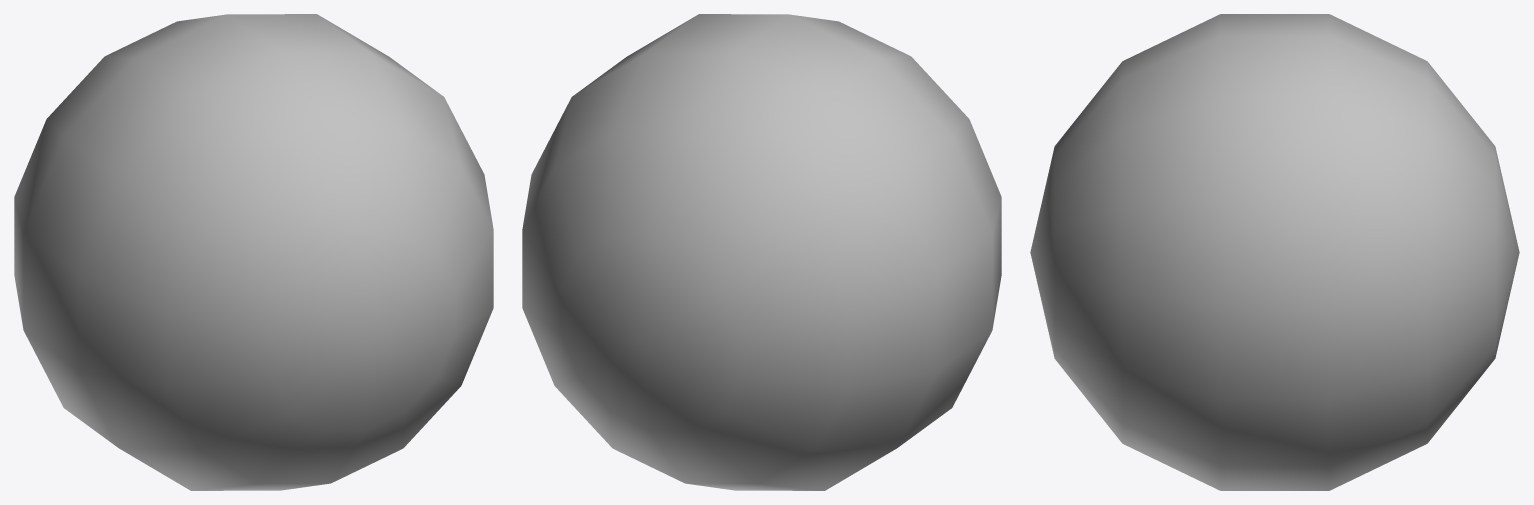
Rendered from eye_r.FBX.
3 renders of one model, left to right at view 1: azimuth 30°, elevation 25°; view 2: azimuth 150°, elevation 25°; view 3: azimuth 270°, elevation 25°, orthographic.
Parts seen in each view (by area): view 1: eye_L001; view 2: eye_L001; view 3: eye_L001.
Boxes of the visible parts, <box> form: eye_L001: <box>14,14,493,490</box>; eye_L001: <box>522,14,1001,490</box>; eye_L001: <box>1030,14,1519,490</box>.
Bounding box in the file's own units: 8.14 × 8.35 × 8.56.
1 material, 1 textured.
